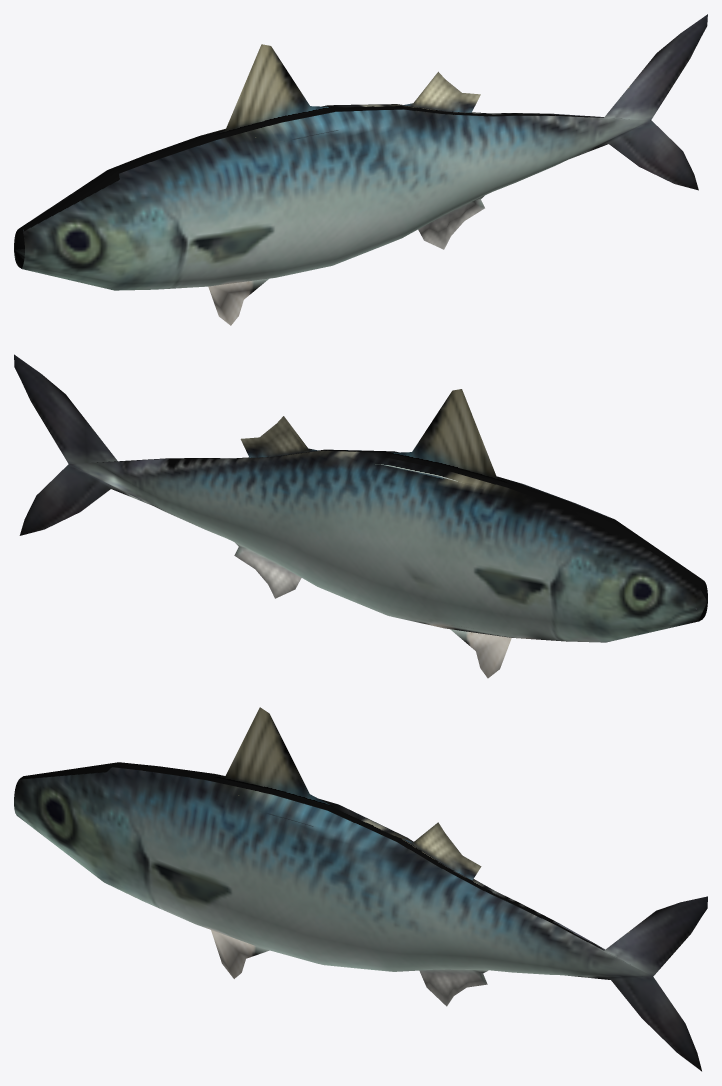
File: fish.gltf
3 views of the same model, one above another, from view 1: azimuth 30°, elevation 25°; view 2: azimuth 150°, elevation 25°; view 3: azimuth 330°, elevation 25° (orthographic).
Visible parts, largest first — view 1: Sphere; view 2: Sphere; view 3: Sphere.
Boxes of the visible parts, <box> form: Sphere: <box>14,14,707,325</box>; Sphere: <box>14,354,707,678</box>; Sphere: <box>14,707,707,1071</box>.
Bounding box in the file's own units: 0.3657 × 0.1405 × 0.0412.
1 material, 1 textured.
